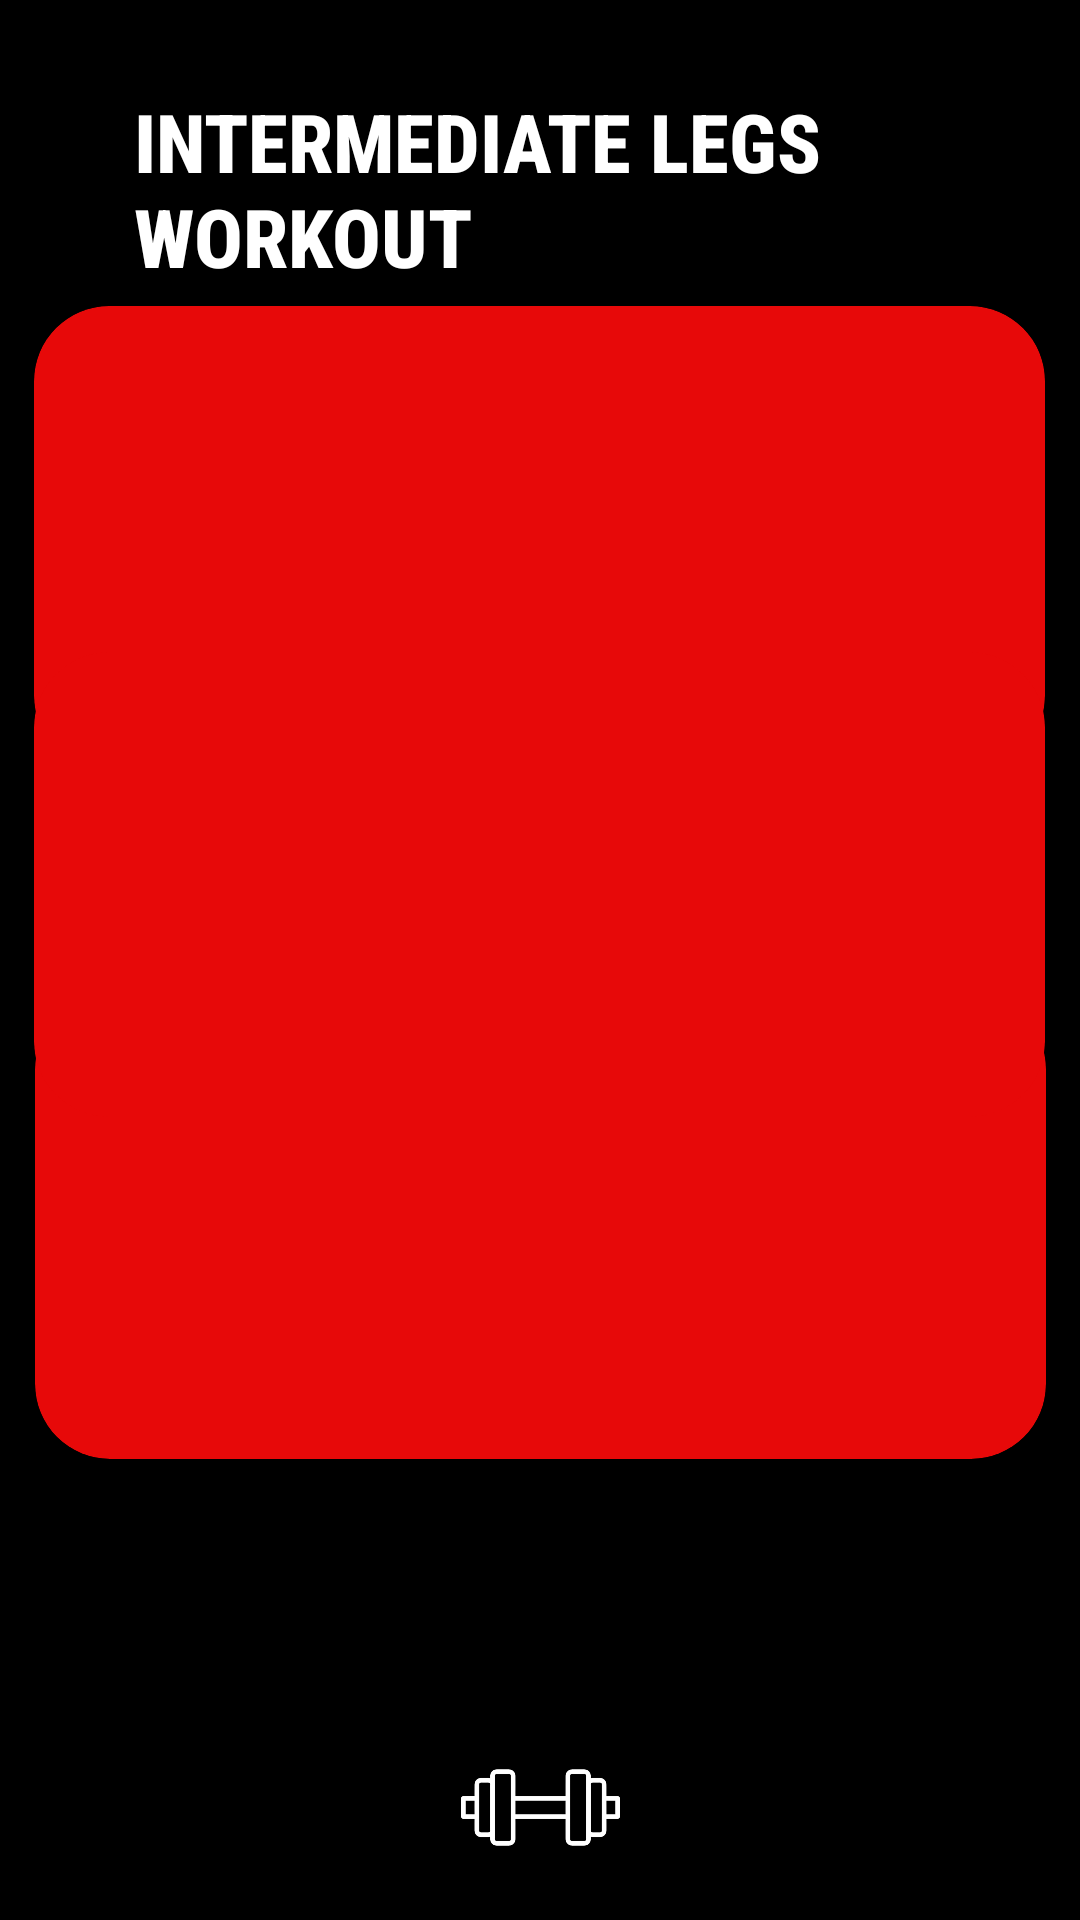

Named icons in this screenshot (1080 × 1920) and their centers, (x=x, y=y):
imgdumbell: (x=540, y=1807)
